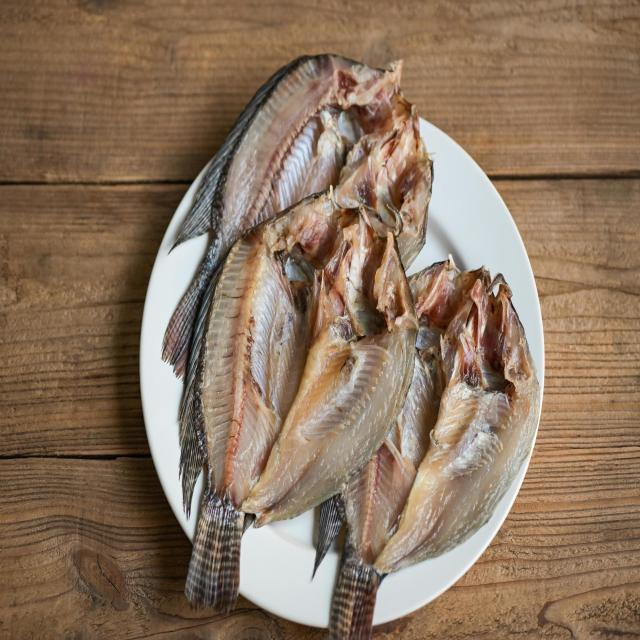pescado: (142, 44, 548, 640)
